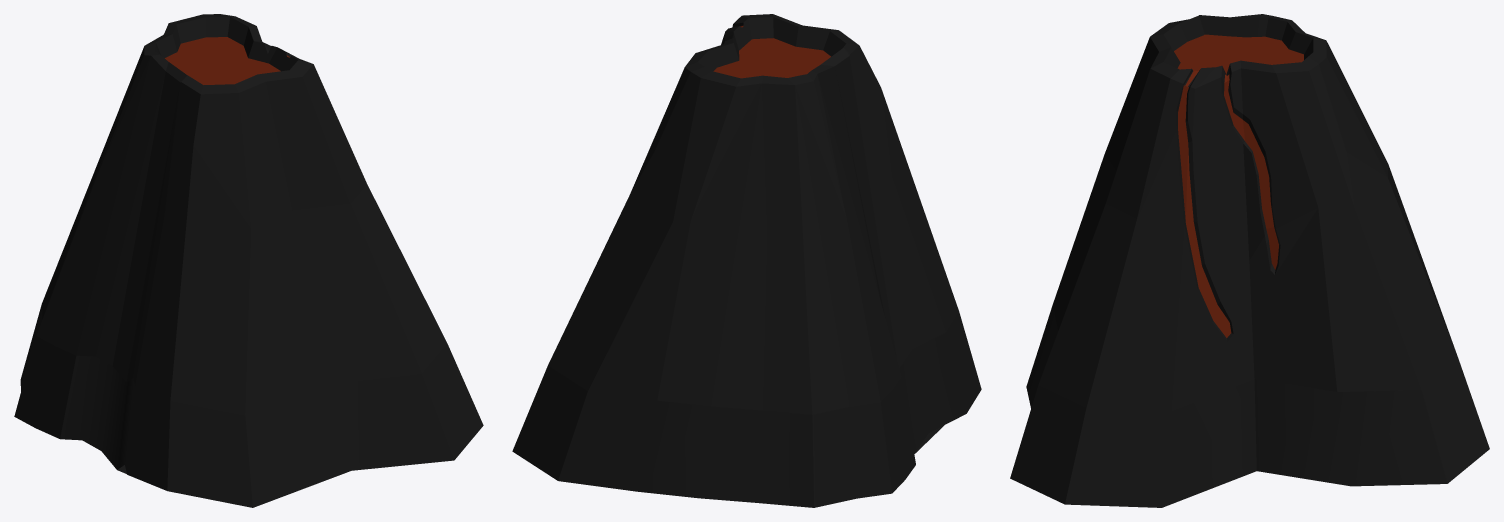
The model's file is Volcan.fbx.
3 views of the same model, side by side, from view 1: azimuth 30°, elevation 25°; view 2: azimuth 150°, elevation 25°; view 3: azimuth 270°, elevation 25° (orthographic). The views are drawn at different scales.
Visible parts, largest first — view 1: VolcanGigate; view 2: VolcanGigate; view 3: VolcanGigate.
Boxes of the visible parts, bbox=[...] form: VolcanGigate: bbox=[14, 14, 483, 507]; VolcanGigate: bbox=[512, 14, 981, 507]; VolcanGigate: bbox=[1010, 14, 1489, 507].
Bounding box in the file's own units: 6707 × 7114 × 7873.
